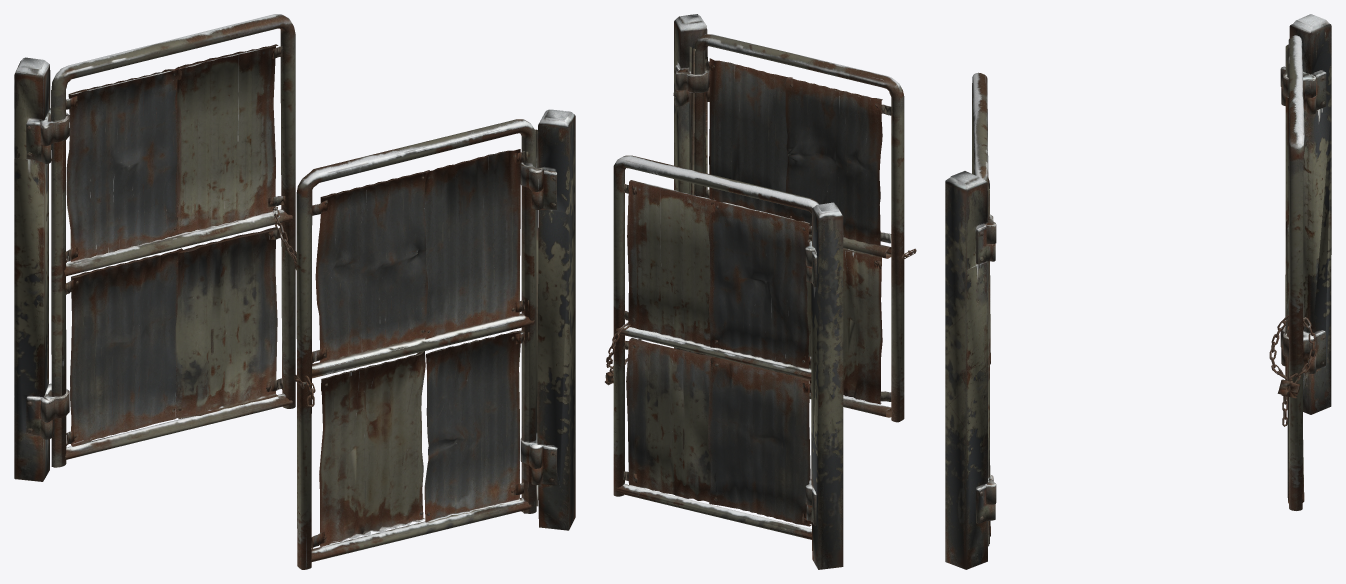
The model's file is jt_gate_open.glb.
The picture shows the model from 3 angles, left to right: view 1: azimuth 30°, elevation 25°; view 2: azimuth 150°, elevation 25°; view 3: azimuth 270°, elevation 25°; orthographic projection. The views are drawn at different scales.
Bounding box in the file's own units: 0.9131 × 0.9512 × 0.8574.
Materials: 1 (1 with a texture image).
